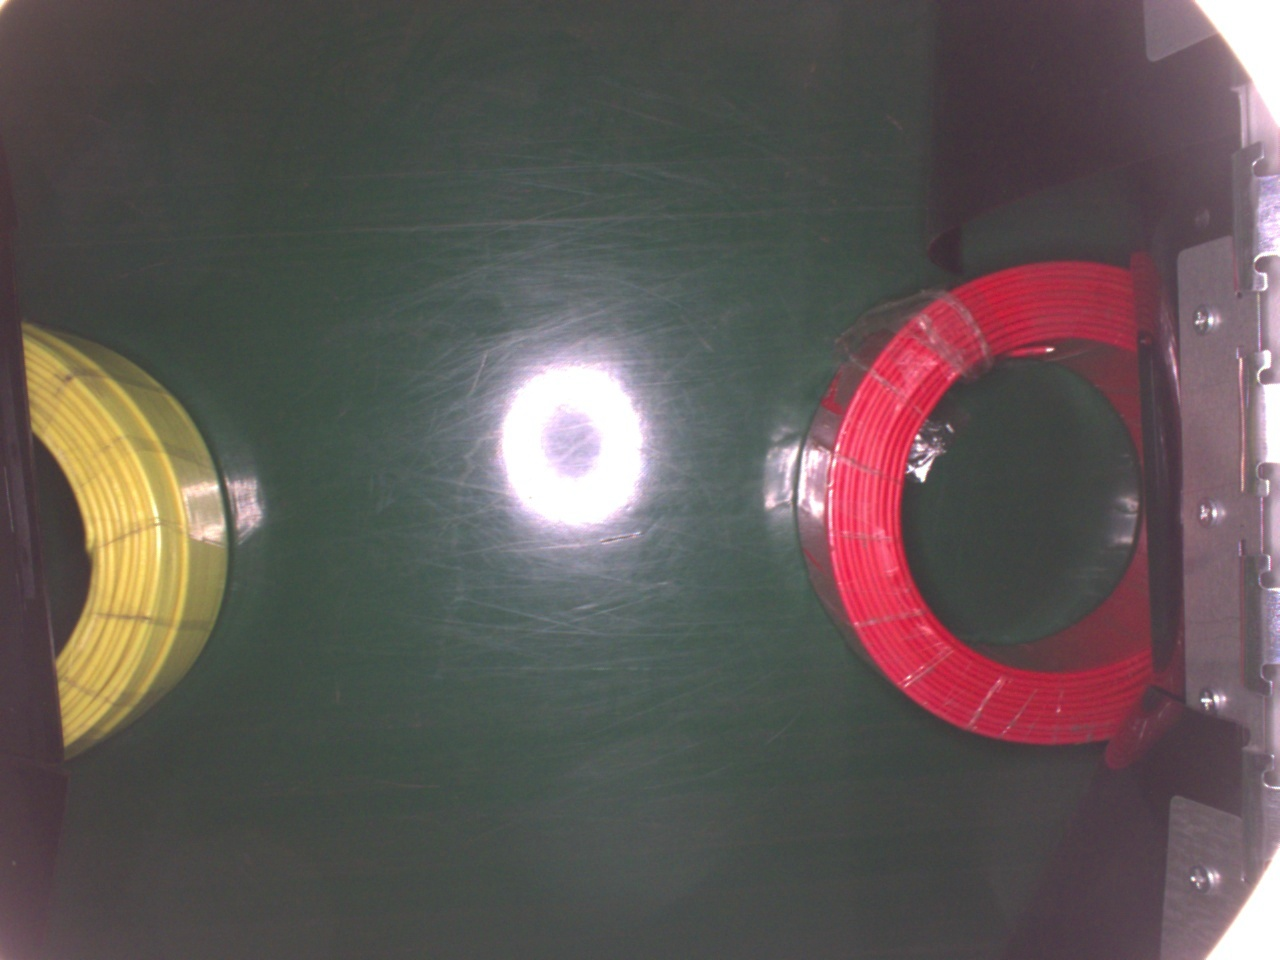red: (798, 259, 1155, 740)
yellow: (25, 318, 229, 750)
